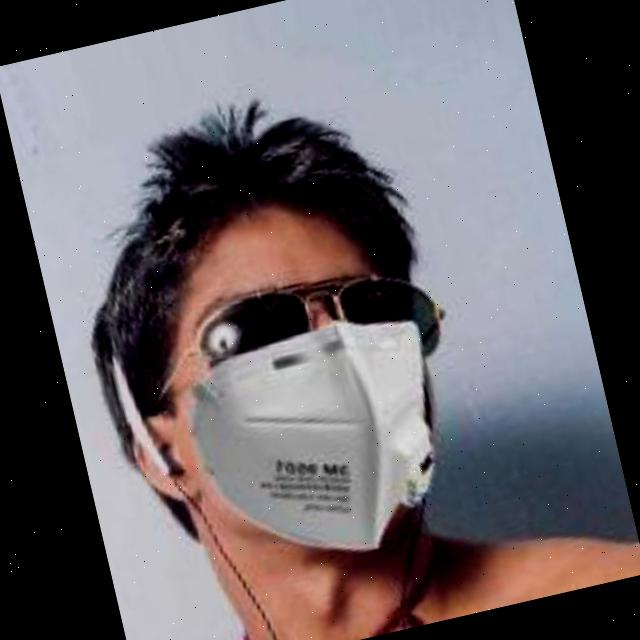suspicion: (83, 90, 506, 596)
